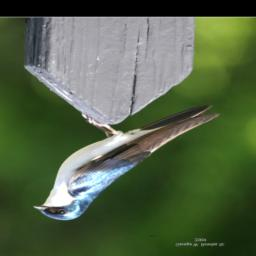Swallow: (32, 104, 221, 221)
